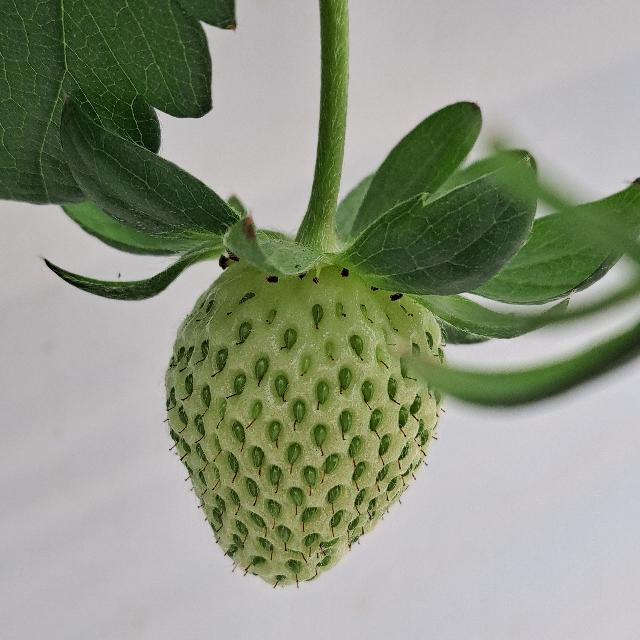Health_25: (164, 260, 448, 586)
